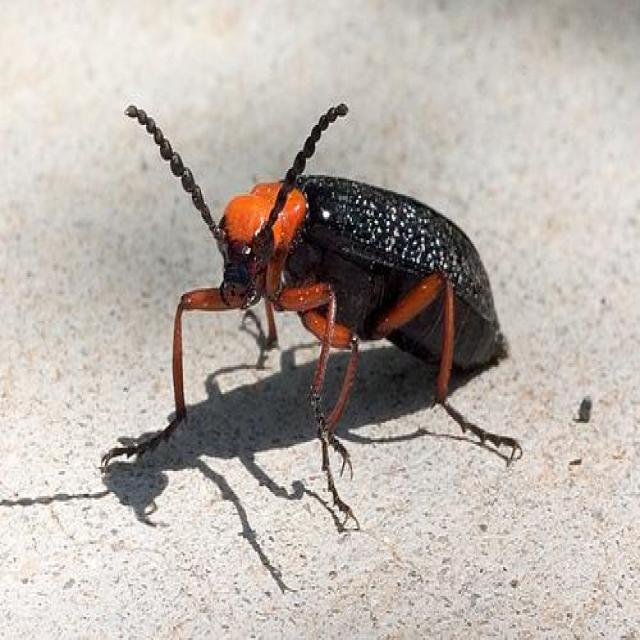BlisterBeetle-Adult-: (114, 89, 526, 533)
